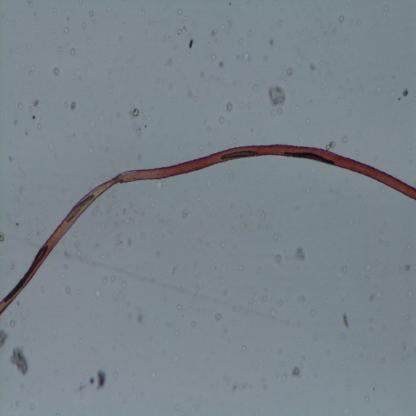Background material: (214, 362, 255, 396), (244, 288, 273, 319), (266, 82, 288, 116), (109, 202, 139, 226), (7, 346, 30, 376), (16, 96, 41, 121), (86, 365, 109, 392), (132, 301, 148, 327), (119, 227, 137, 248), (230, 47, 253, 63), (334, 260, 350, 282), (198, 168, 214, 190), (73, 232, 85, 260), (103, 269, 121, 287), (280, 62, 298, 79), (164, 317, 180, 336), (293, 243, 307, 264), (160, 51, 176, 68), (219, 18, 232, 38), (172, 23, 188, 39), (340, 310, 352, 330), (90, 282, 102, 302), (396, 88, 411, 103), (174, 204, 190, 218), (307, 300, 319, 318), (366, 287, 378, 305), (212, 306, 224, 323), (154, 176, 165, 194), (310, 65, 324, 79), (60, 282, 74, 296), (230, 262, 245, 275), (0, 327, 10, 346), (291, 362, 302, 379), (333, 10, 346, 24), (86, 7, 96, 24), (131, 106, 142, 121), (176, 300, 187, 314), (186, 39, 196, 54), (208, 26, 218, 41), (0, 224, 7, 244), (228, 74, 237, 88), (324, 140, 336, 150), (214, 58, 224, 70), (402, 262, 412, 274), (273, 248, 280, 264), (250, 81, 260, 92), (28, 402, 37, 414), (172, 9, 184, 18), (53, 66, 62, 78), (216, 116, 224, 128), (340, 134, 348, 146), (69, 99, 76, 112), (68, 46, 75, 58), (81, 16, 86, 30), (7, 153, 14, 162), (63, 26, 70, 35), (226, 102, 232, 112), (268, 40, 274, 48), (190, 318, 194, 327)
Hair textile: (0, 144, 416, 315)
